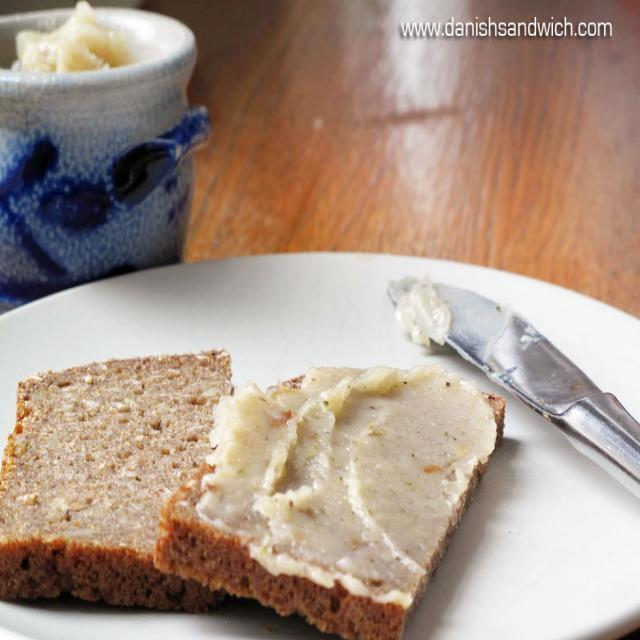Spread: (216, 372, 491, 608)
